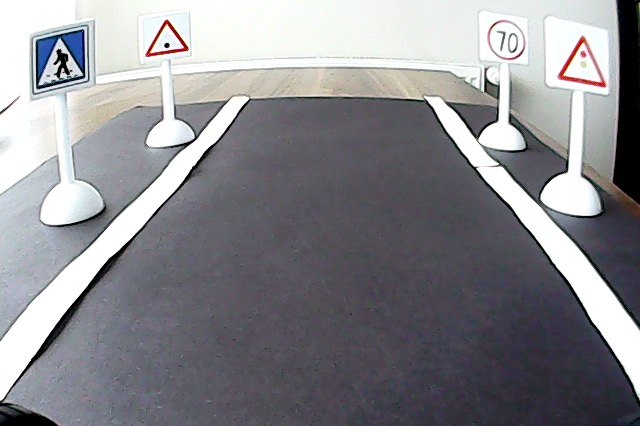green light: (142, 15, 192, 60)
pedestrian crossing: (28, 23, 94, 94)
red light: (554, 31, 610, 93)
speed limit 70: (483, 16, 529, 62)
